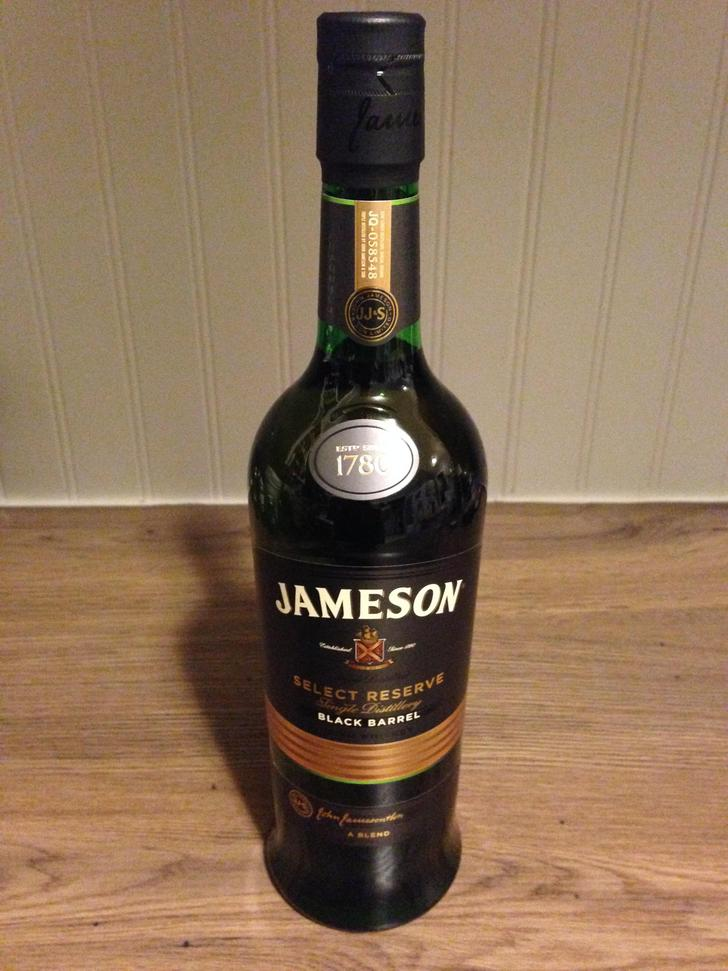Jameson: (243, 6, 497, 944)
